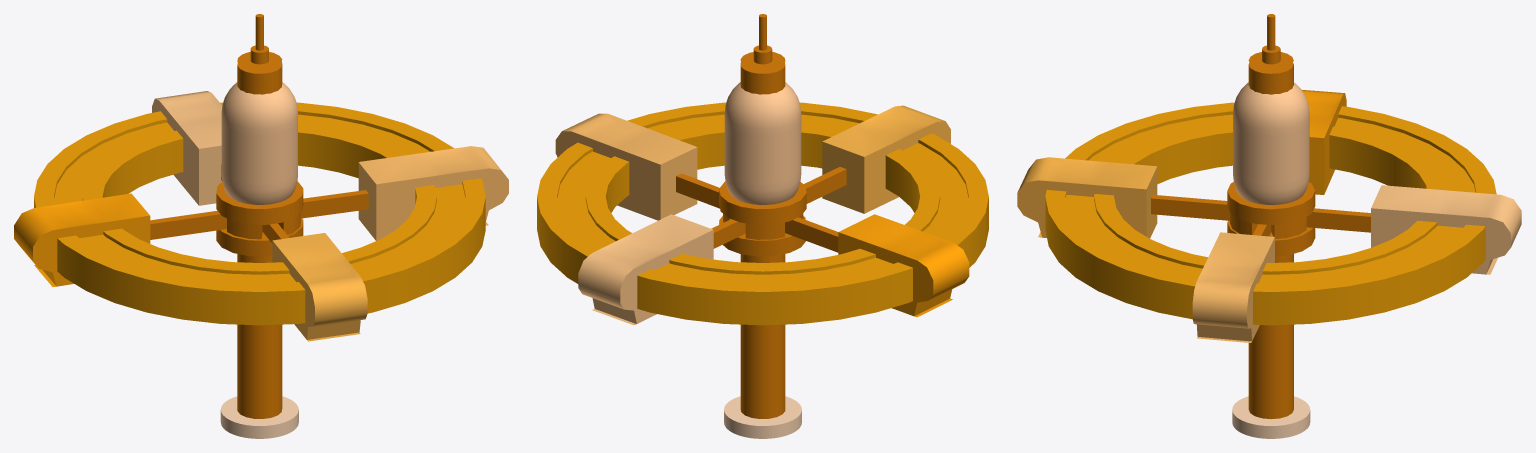
The model's file is EDE.glb.
The picture shows the model from 3 angles, left to right: view 1: azimuth 30°, elevation 25°; view 2: azimuth 150°, elevation 25°; view 3: azimuth 270°, elevation 25°; orthographic projection.
Visible parts, largest first — view 1: anillo, base, centromando, alaD, alaC, alaB, alaE, ConectorAscensor; view 2: anillo, base, centromando, alaD, alaE, alaC, alaB, ConectorAscensor; view 3: anillo, base, centromando, alaE, alaD, alaC, alaB, ConectorAscensor.
Part boxes in pixels (left/top/right/bottom): anillo: left=34, top=102, right=485, bottom=325; base: left=150, top=14, right=368, bottom=418; centromando: left=221, top=82, right=297, bottom=204; alaD: left=358, top=146, right=508, bottom=240; alaC: left=272, top=233, right=367, bottom=341; alaB: left=14, top=193, right=150, bottom=286; alaE: left=152, top=91, right=222, bottom=205; ConectorAscensor: left=220, top=396, right=298, bottom=438; anillo: left=537, top=102, right=988, bottom=325; base: left=676, top=14, right=846, bottom=418; centromando: left=724, top=82, right=801, bottom=204; alaD: left=555, top=113, right=697, bottom=220; alaE: left=578, top=214, right=713, bottom=325; alaC: left=822, top=105, right=950, bottom=213; alaB: left=838, top=214, right=969, bottom=317; ConectorAscensor: left=724, top=396, right=801, bottom=438; anillo: left=1045, top=102, right=1496, bottom=325; base: left=1151, top=14, right=1370, bottom=419; centromando: left=1233, top=82, right=1309, bottom=204; alaE: left=1371, top=185, right=1521, bottom=274; alaD: left=1192, top=232, right=1274, bottom=342; alaC: left=1017, top=157, right=1157, bottom=238; alaB: left=1302, top=90, right=1346, bottom=194; ConectorAscensor: left=1232, top=396, right=1310, bottom=438.
Bounding box in the file's own units: 11.11 × 9.9 × 11.12.
